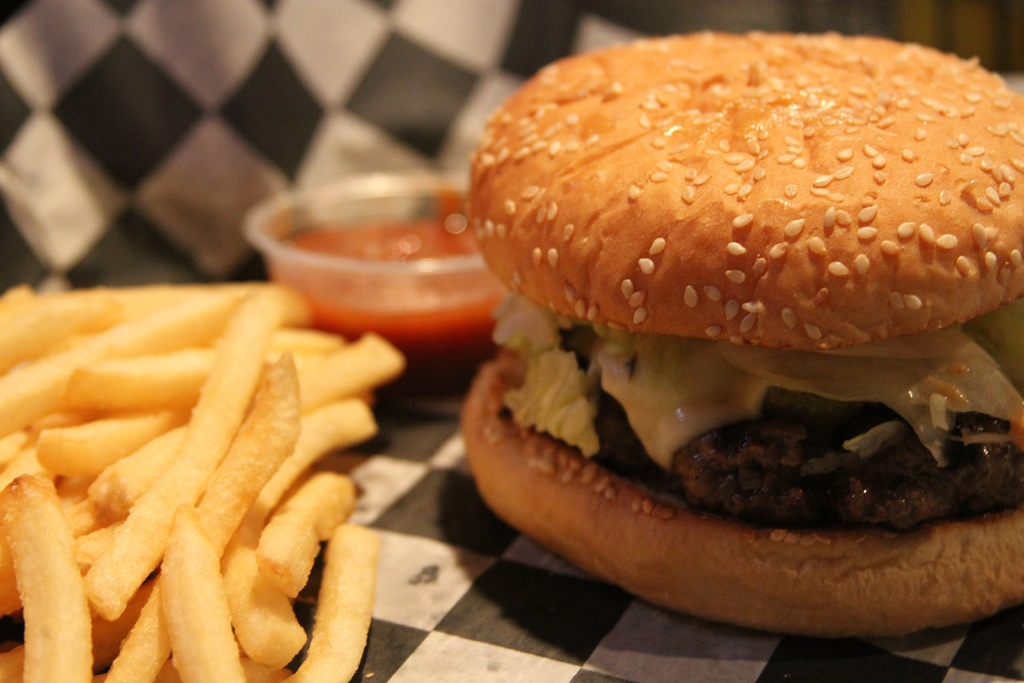hamburger: (459, 31, 1023, 639)
